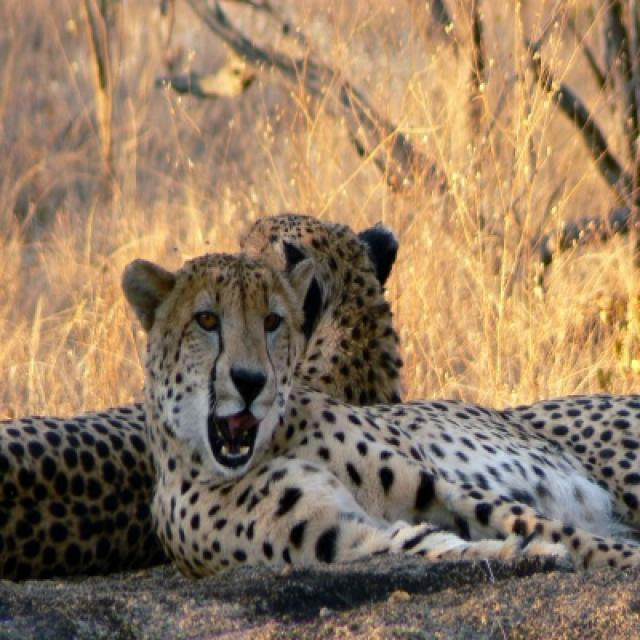Cheetah: (0, 214, 638, 586)
